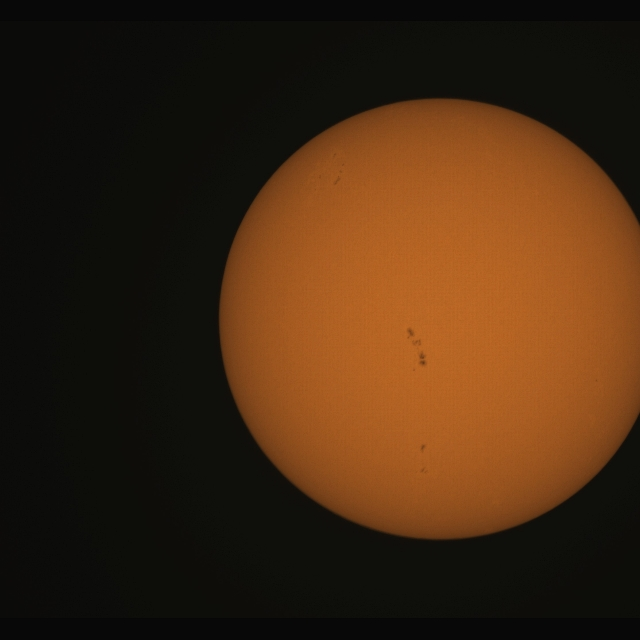sunspot: (404, 327, 428, 369), (405, 326, 422, 351), (410, 349, 428, 372), (332, 164, 345, 186), (416, 466, 428, 475), (419, 443, 426, 454), (333, 152, 337, 158)
